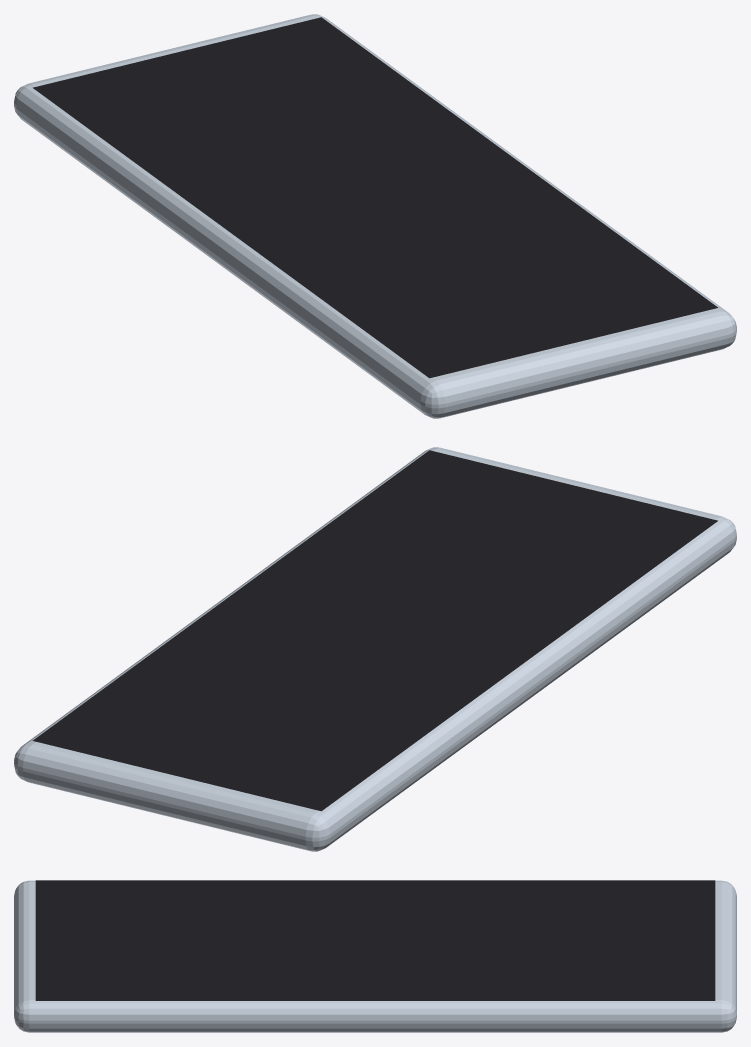
Rendered from iqoo-neo-model-194-mid-range-2025.glb.
3 renders of one model, top to bottom at view 1: azimuth 30°, elevation 25°; view 2: azimuth 150°, elevation 25°; view 3: azimuth 270°, elevation 25°, orthographic. The views are drawn at different scales.
Visible parts, largest first — view 1: Phone_Screen, Phone_Body; view 2: Phone_Screen, Phone_Body; view 3: Phone_Screen, Phone_Body.
Part boxes in pixels (<box>): Phone_Screen: <box>33,17,718,378</box>; Phone_Body: <box>14,14,736,418</box>; Phone_Screen: <box>32,450,717,811</box>; Phone_Body: <box>14,447,736,851</box>; Phone_Screen: <box>35,880,715,1000</box>; Phone_Body: <box>14,880,736,1032</box>.
Size of the model in its own units: 0.0712 by 0.008 by 0.1658.
